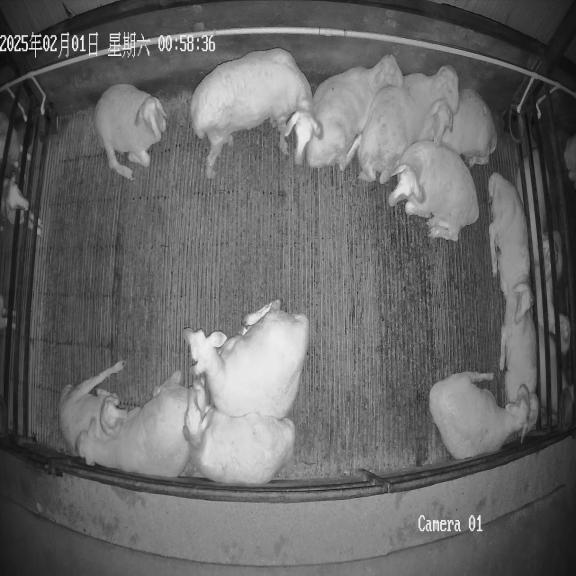lying: (183, 301, 309, 418), (77, 371, 190, 478), (357, 66, 459, 183), (305, 55, 403, 169), (183, 390, 295, 484), (388, 140, 479, 241), (429, 372, 530, 460), (488, 173, 532, 332), (94, 84, 166, 180), (59, 361, 129, 456), (415, 89, 497, 167), (500, 312, 539, 432)
stand: (191, 48, 320, 178)
